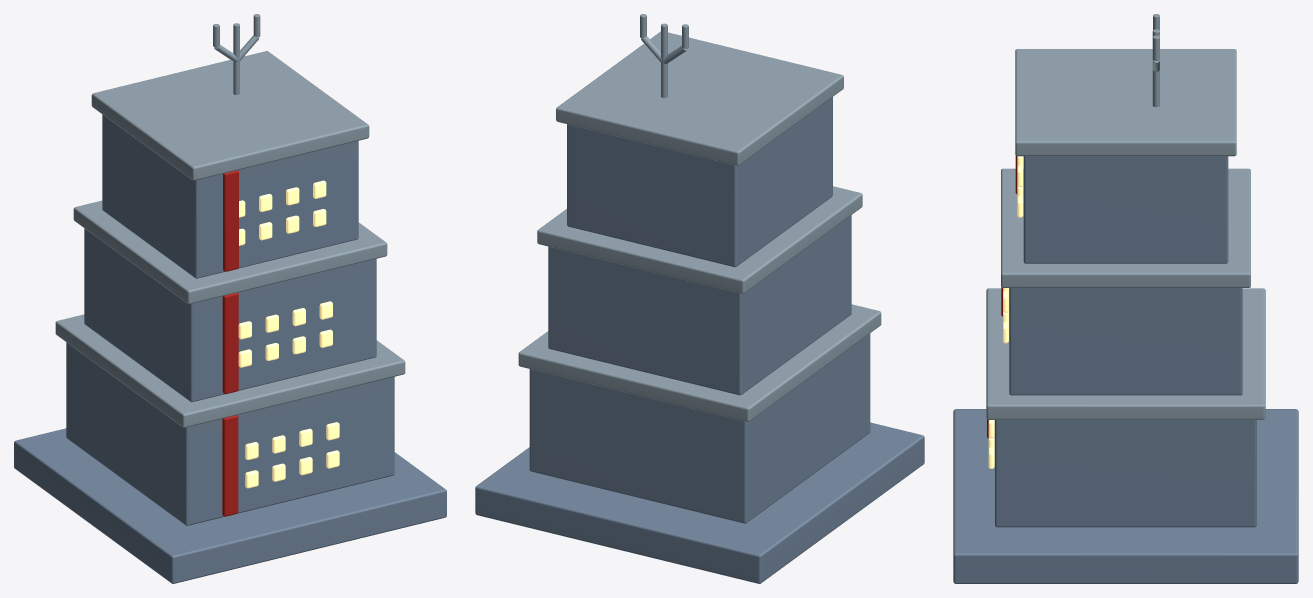
3 renders of one model, left to right at view 1: azimuth 30°, elevation 25°; view 2: azimuth 150°, elevation 25°; view 3: azimuth 270°, elevation 25°, orthographic. The views are drawn at different scales.
Parts seen in each view (by area): view 1: Modular block storey, Modular block storey.001, Foundation slab, Modular block storey.002, Block roof ledge.002, Block roof ledge, Block roof ledge.001, Vertical block colour strip, Vertical block colour strip.001, Vertical block colour strip.002; view 2: Modular block storey, Modular block storey.001, Foundation slab, Modular block storey.002, Block roof ledge.002, Block roof ledge, Block roof ledge.001; view 3: Foundation slab, Modular block storey, Modular block storey.001, Block roof ledge.002, Modular block storey.002, Block roof ledge, Block roof ledge.001.
Part boxes in pixels (x1,y1,x2,y2): Modular block storey: (66,342,394,525); Modular block storey.001: (84,228,376,402); Foundation slab: (14,428,446,583); Modular block storey.002: (102,114,358,278); Block roof ledge.002: (91,51,369,180); Block roof ledge: (55,314,405,427); Block roof ledge.001: (73,200,387,304); Vertical block colour strip: (222,415,238,516); Vertical block colour strip.001: (222,292,238,394); Vertical block colour strip.002: (223,170,238,271); Modular block storey: (529,333,870,523); Modular block storey.001: (548,215,851,395); Foundation slab: (475,422,924,583); Modular block storey.002: (567,97,832,267); Block roof ledge.002: (556,31,843,165); Block roof ledge: (518,304,881,421); Block roof ledge.001: (537,186,862,293); Foundation slab: (953,409,1298,583); Modular block storey: (995,420,1256,527); Modular block storey.001: (1009,288,1242,395); Block roof ledge.002: (1015,49,1236,156); Modular block storey.002: (1023,156,1228,263); Block roof ledge: (986,288,1265,419); Block roof ledge.001: (1001,168,1250,287).
Bounding box in the file's own units: 2.04 × 3.24 × 2.04.
